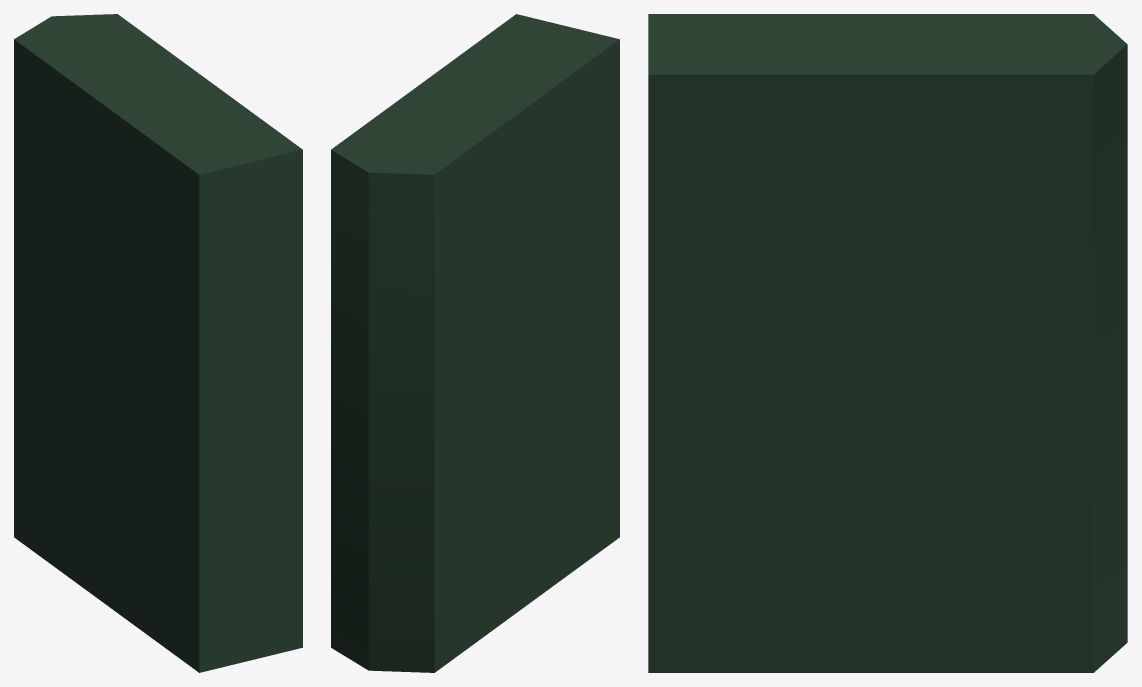
File: Book.FBX
3 views of the same model, side by side, from view 1: azimuth 30°, elevation 25°; view 2: azimuth 150°, elevation 25°; view 3: azimuth 270°, elevation 25° (orthographic). The views are drawn at different scales.
Parts seen in each view (by area): view 1: Box023; view 2: Box023; view 3: Box023.
Boxes of the visible parts, x1,y1,x2,y2 form: Box023: (14,14,302,672); Box023: (331,14,619,672); Box023: (648,14,1127,672).
Bounding box in the file's own units: 3.66 × 16.84 × 12.22.
